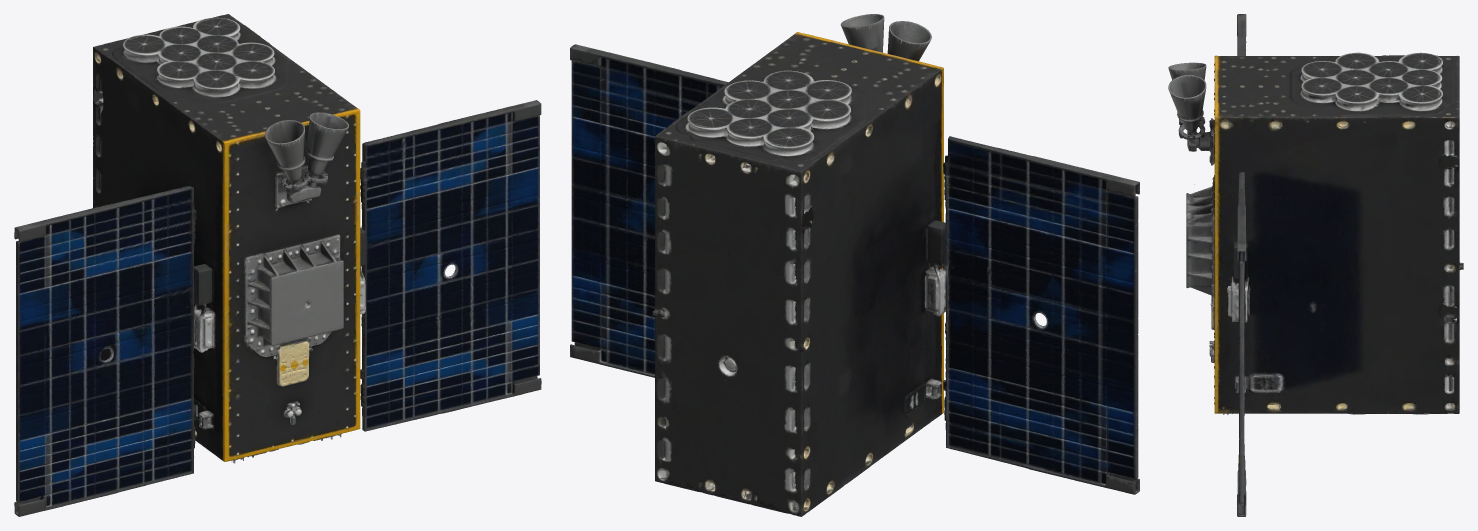
Rendered from jeancarlos_model.glb.
3 renders of one model, left to right at view 1: azimuth 30°, elevation 25°; view 2: azimuth 150°, elevation 25°; view 3: azimuth 270°, elevation 25°, orthographic. The views are drawn at different scales.
Size of the model in its own units: 2 by 1.28 by 1.05.
1 material, 1 textured.
